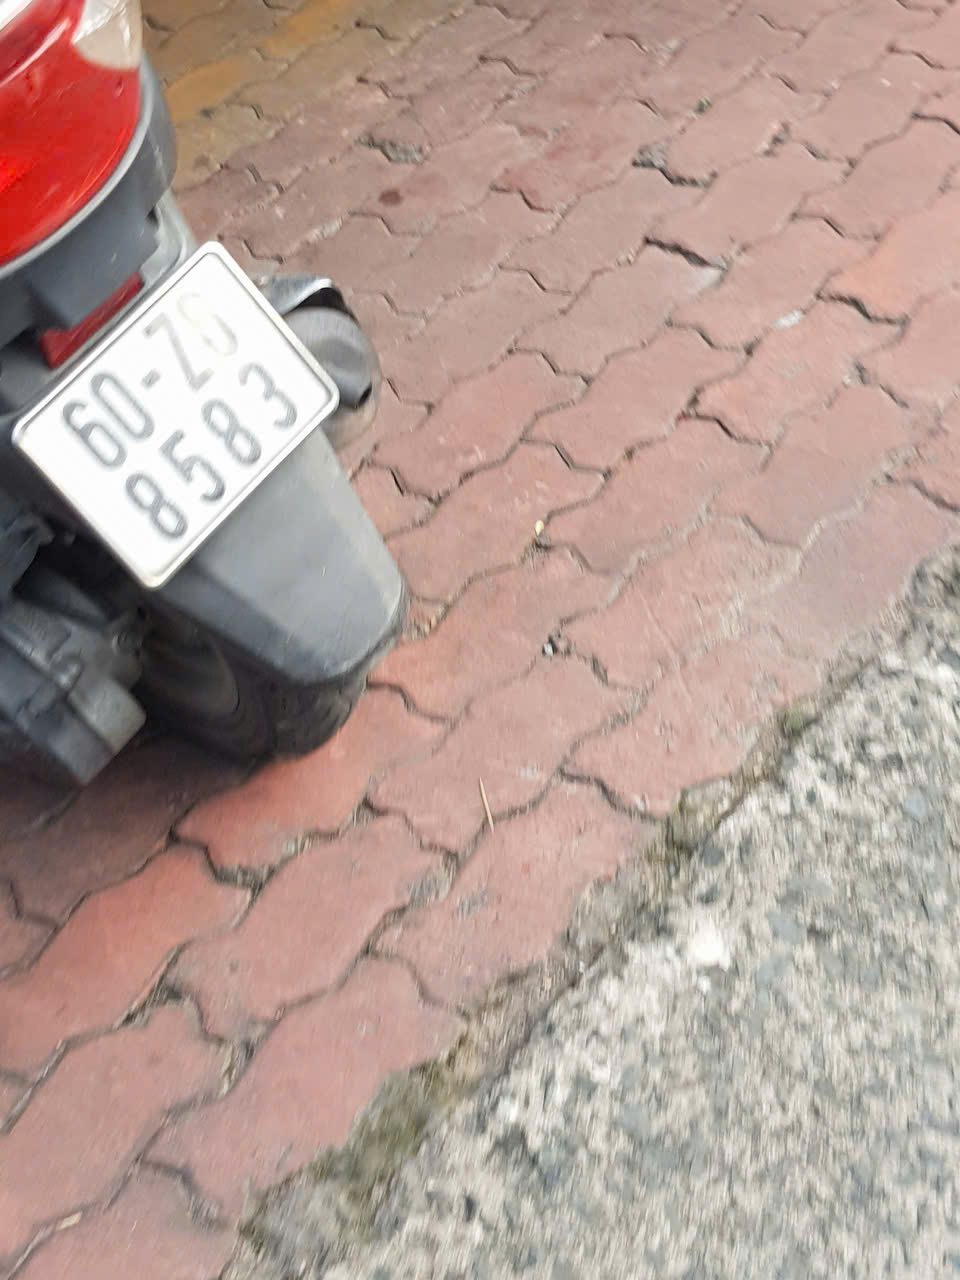bien_so: (13, 250, 337, 584)
